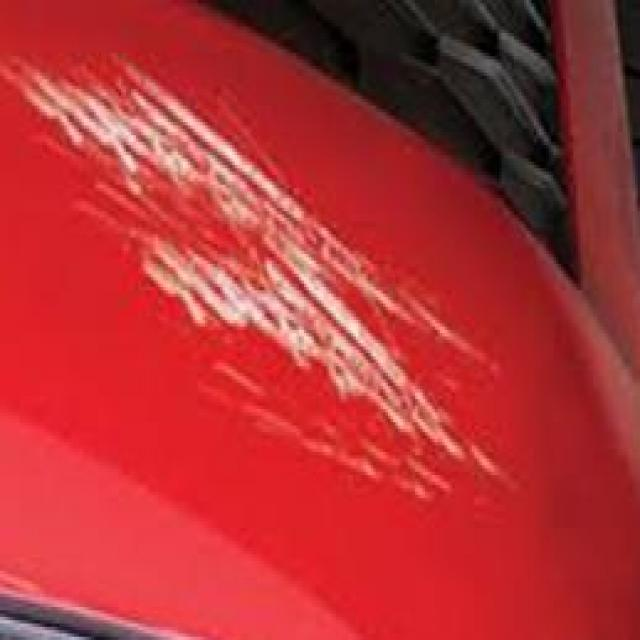scratch: (7, 39, 524, 544)
